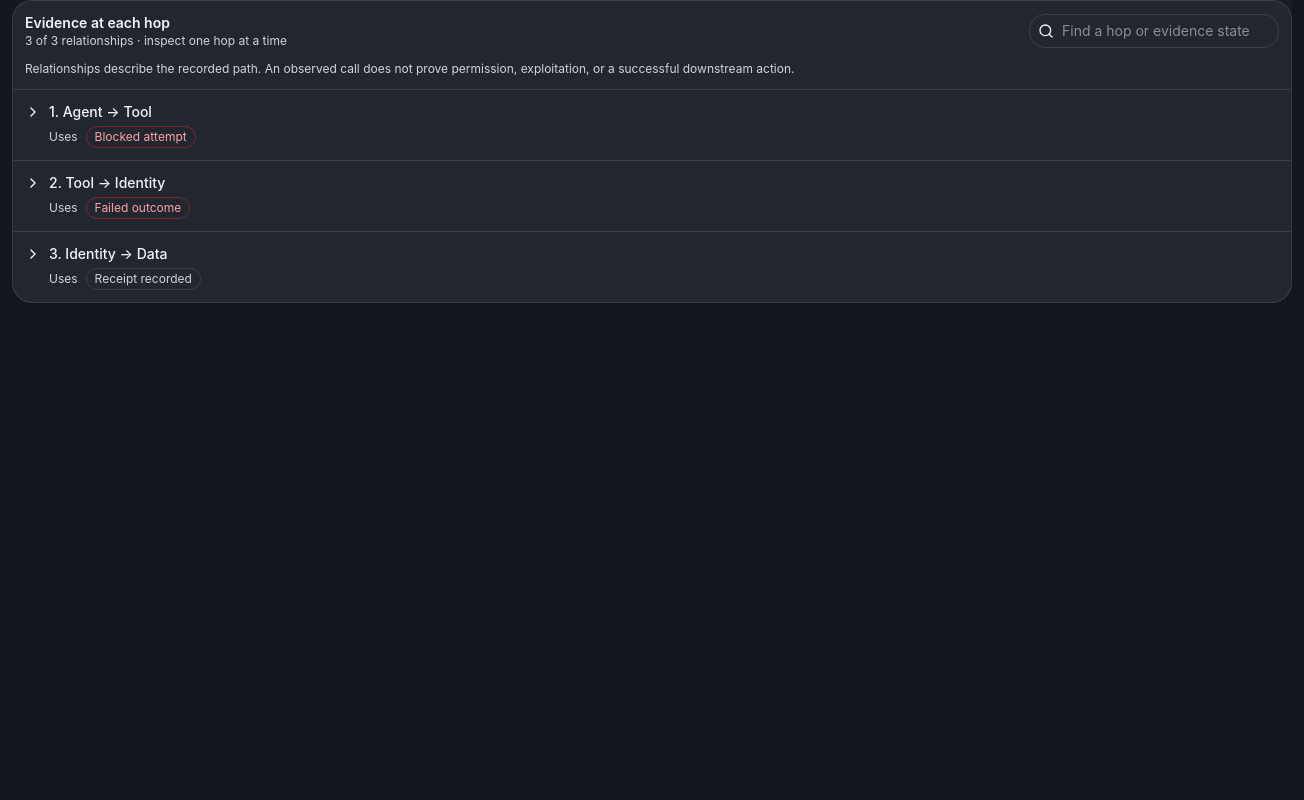
Test: GraphHopEvidenceInspector › separates blocked, failed, and unknown downstream outcomes from runtime observation
Expected: the text "Blocked attempt" is shown, [86,126,196,148]
Expected: the text "Failed outcome" is shown, [86,197,190,219]
Click the button "1. Agent → Tool Uses Blocked attempt" at (83, 112), box [13,90,1291,160]
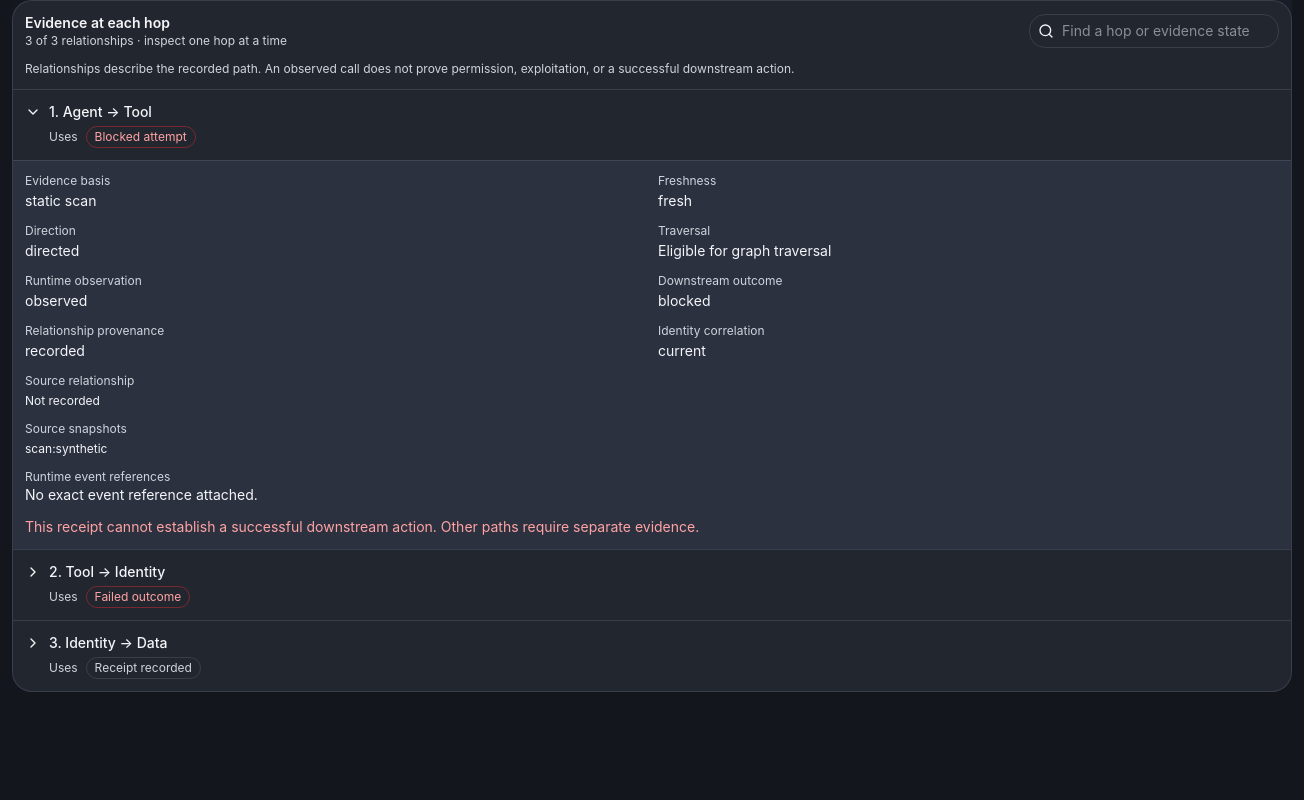
Result: the text "cannot establish a successful downstream action" is shown at [25,518,699,535]
Result: the text "blocked" is shown at [658,292,710,309]
Click the button "3. Identity → Data Uses Receipt recorded" at (91, 642), box [13,621,1291,691]
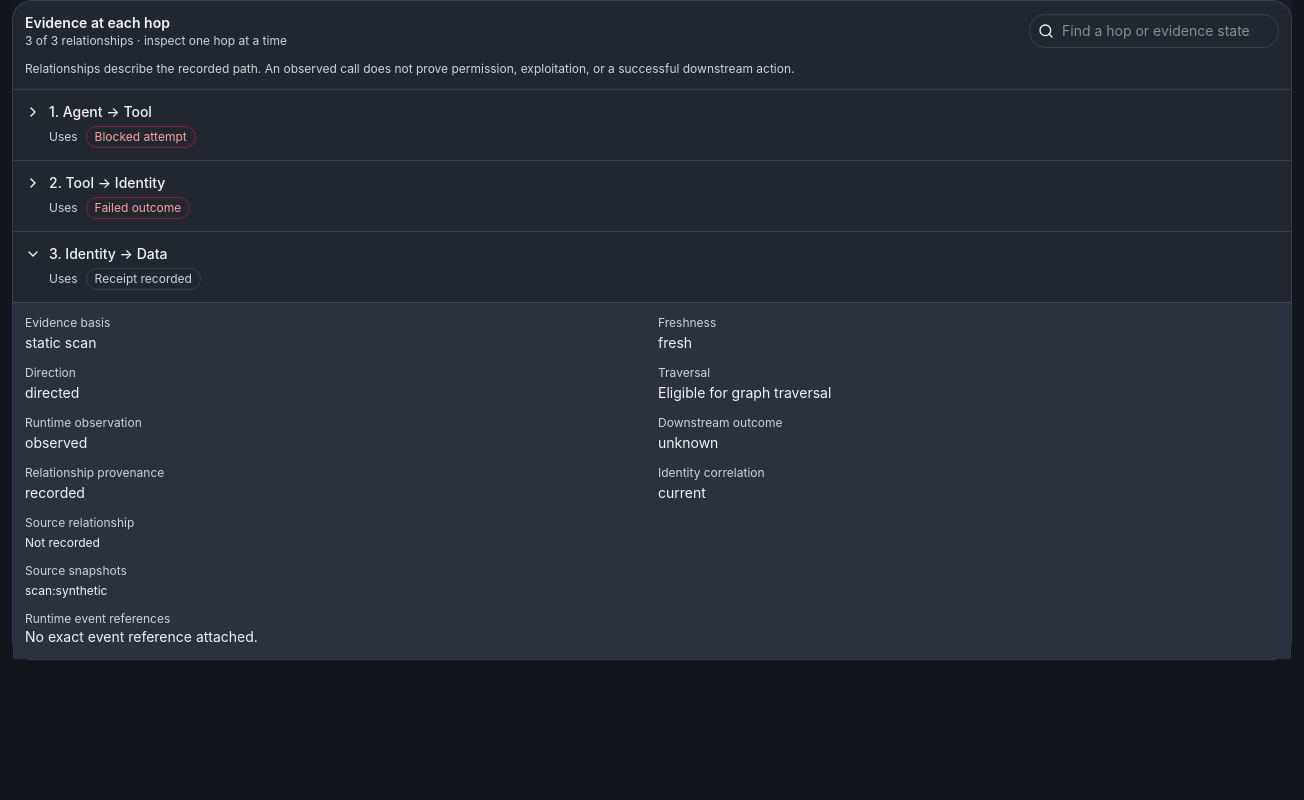
Result: the text "observed" is shown at [25,434,87,451]
Result: the text "unknown" is shown at [658,434,718,451]
